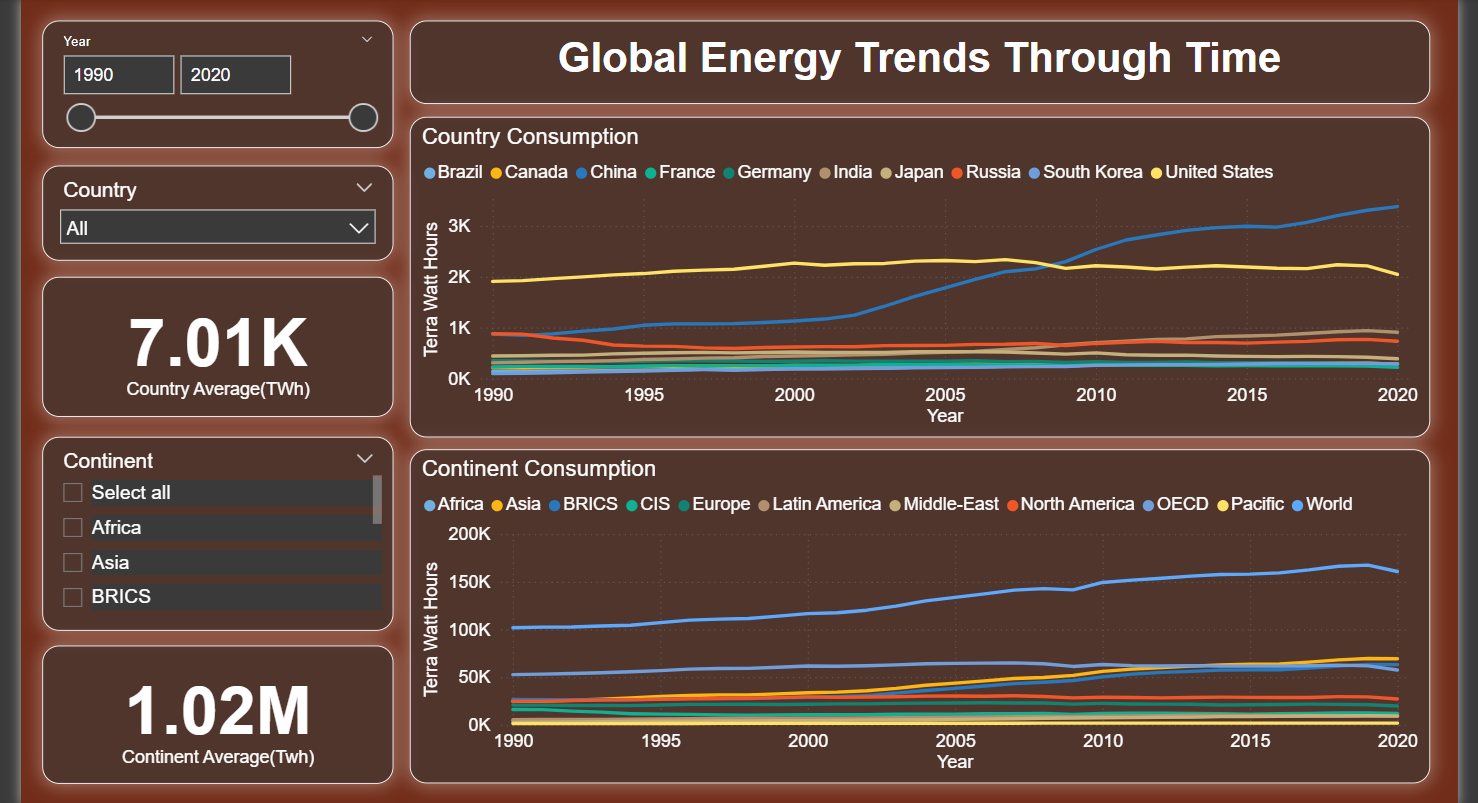

What the dashboard file says about the page in this screenshot:
{"tool":"powerbi","page":{"name":"Global Consumption","canvas":[1280,720],"ordinal":0},"visuals":[{"type":"textbox","box":[345.8,20.6,908.4,74.1],"z":0},{"type":"slicer","fields":{"Values":["Country_Table.Year"]},"box":[19.3,20.5,312.5,113.4],"z":1000},{"type":"lineChart","title":"Country Consumption","fields":{"Series":["Country_Table.Country"],"Y":["Sum(Country_Table.Value)"],"Category":["Country_Table.Year"]},"box":[345.8,105.7,908.4,285.4],"z":2000},{"type":"slicer","fields":{"Values":["Country_Table.Country"]},"box":[19.3,149.6,312.5,84.5],"z":3000},{"type":"card","fields":{"Values":["Country_Table.Country Average(TWh)"]},"box":[19.2,248.4,312.9,124.9],"z":4000},{"type":"lineChart","title":"Continent Consumption","fields":{"Series":["Continent_Table.Continent"],"Category":["Continent_Table.Year"],"Y":["Sum(Continent_Table.Value)"]},"box":[345.8,402.1,908.4,297.8],"z":5000},{"type":"card","fields":{"Values":["Continent_Table.Continent Average(Twh)"]},"box":[19.2,576.3,312.9,123.5],"z":6000},{"type":"slicer","fields":{"Values":["Continent_Table.Continent"]},"box":[19.2,391.1,312.9,172.9],"z":7000}]}

Visuals, with their boxes on the page's 1280x720 design canvas (x1, y1, x2, y2). These are canvas units, not pixel positions in the 1478x803 screenshot, which may show the page scaled, cropped or inside an application window:
textbox: 346:21:1254:95
slicer - Country_Table.Year: 19:20:332:134
"Country Consumption" lineChart: 346:106:1254:391
slicer - Country_Table.Country: 19:150:332:234
card - Country_Table.Country Average(TWh): 19:248:332:373
"Continent Consumption" lineChart: 346:402:1254:700
card - Continent_Table.Continent Average(Twh): 19:576:332:700
slicer - Continent_Table.Continent: 19:391:332:564
